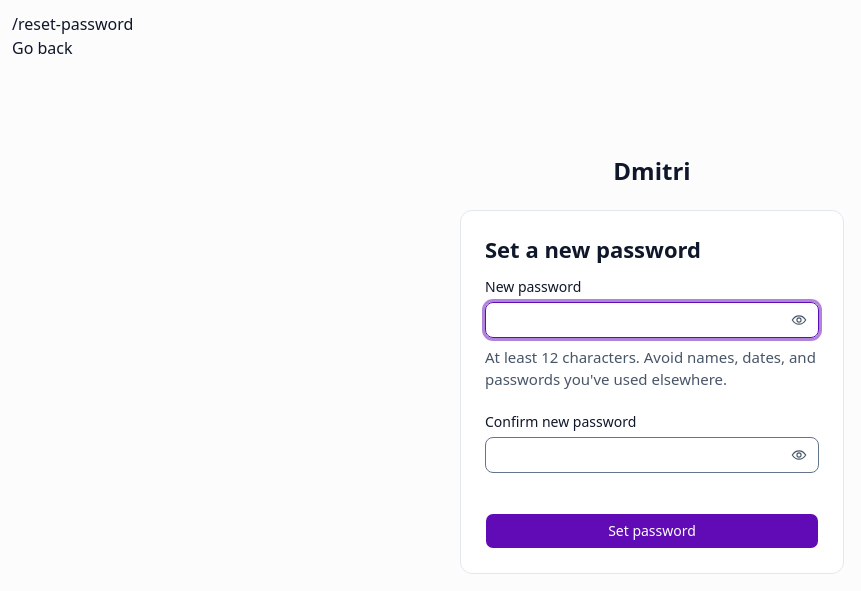
ResetPassword › removes the form and renders the dead state on 410 invalid_reset_token
Type "a-long-enough-password" into the password field labelled "New password" at point(652, 320), box [485, 302, 819, 338]
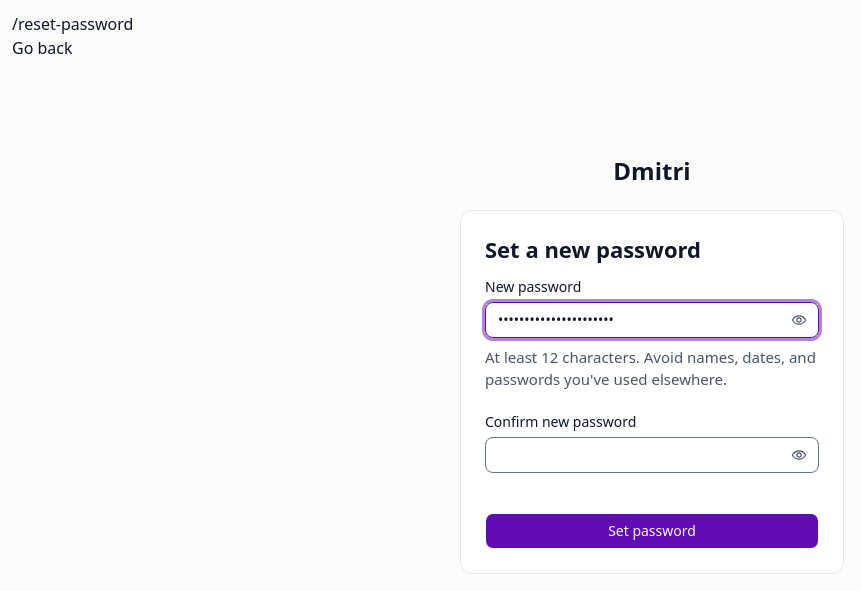
Type "a-long-enough-password" into the password field labelled "Confirm new password" at point(652, 455), box [485, 437, 819, 473]
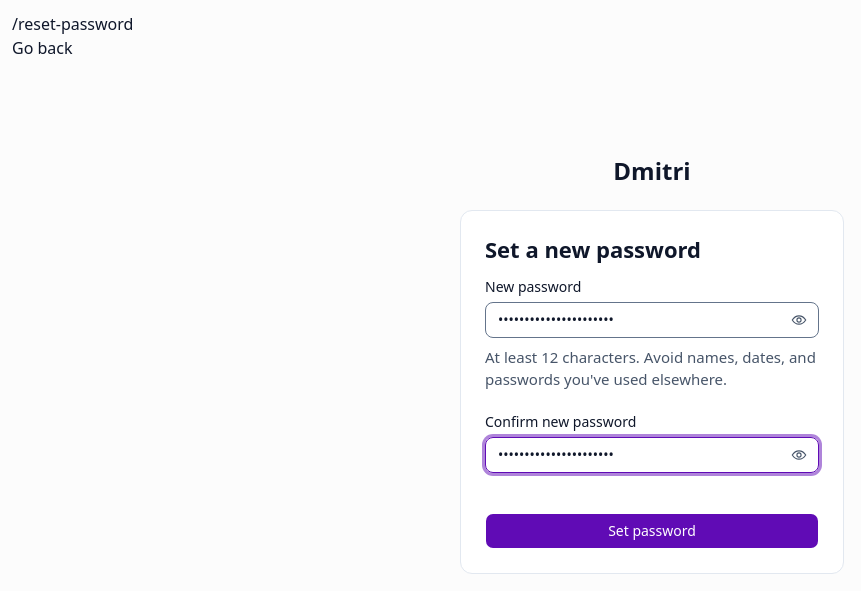
Click the button with test id "reset-submit" at point(652, 531), box [485, 513, 819, 549]
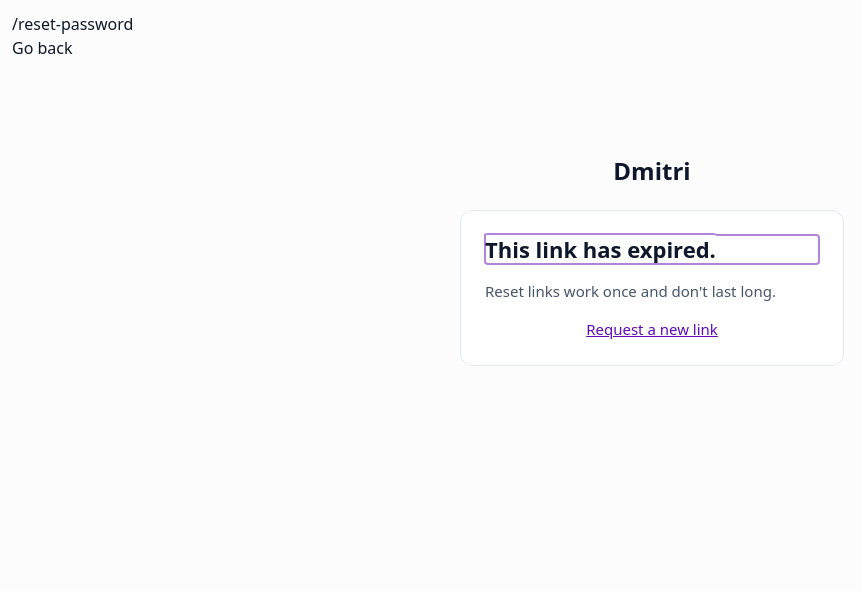
Expected: the element with test id "reset-dead" is shown, [485, 235, 819, 341]
Expected: the form with test id "reset-form" is gone
